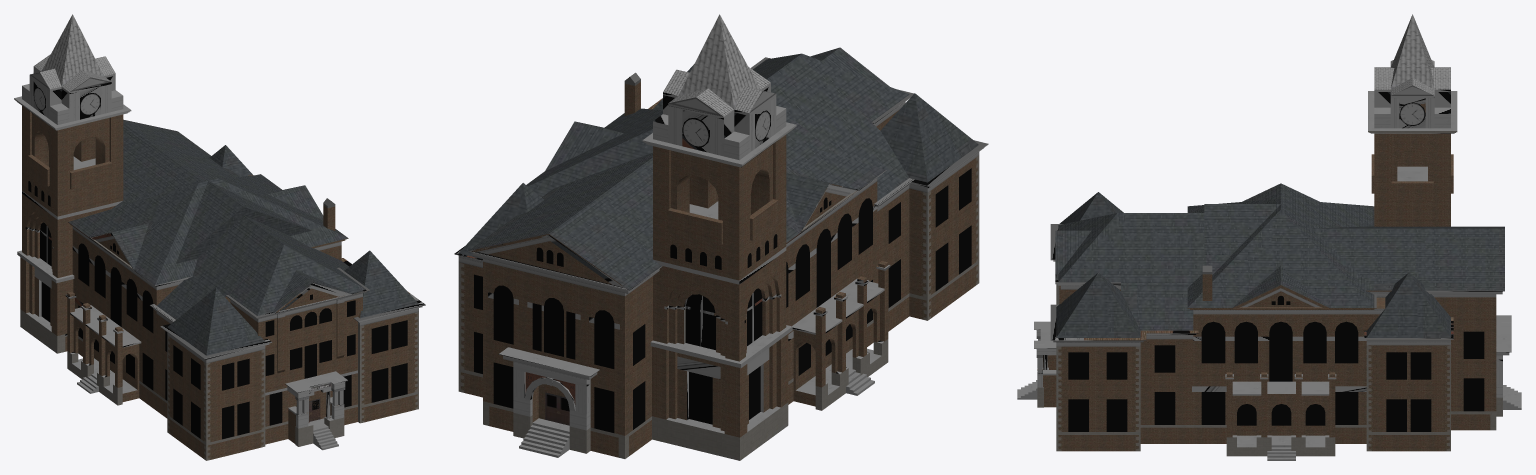
The model's file is hawkins_public_library.glb.
3 renders of one model, left to right at view 1: azimuth 30°, elevation 25°; view 2: azimuth 150°, elevation 25°; view 3: azimuth 270°, elevation 25°, orthographic. The views are drawn at different scales.
Parts seen in each view (by area): view 1: Hawkins_Library_Convert_Material #311_0; view 2: Hawkins_Library_Convert_Material #311_0; view 3: Hawkins_Library_Convert_Material #311_0.
Boxes of the visible parts, x1,y1,x2,y2 form: Hawkins_Library_Convert_Material #311_0: (14,14,425,460); Hawkins_Library_Convert_Material #311_0: (454,14,988,460); Hawkins_Library_Convert_Material #311_0: (1017,14,1521,460).
Bounding box in the file's own units: 25.07 × 30.54 × 40.78.
1 material, 1 textured.
